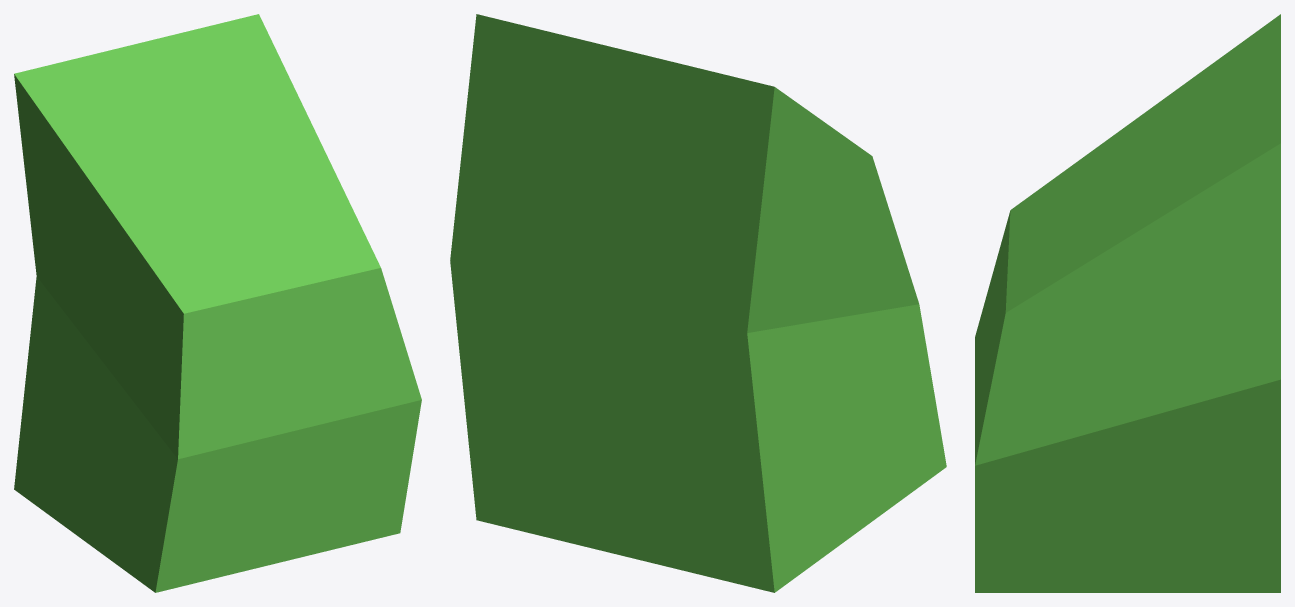
The model's file is grass.glb.
3 views of the same model, side by side, from view 1: azimuth 30°, elevation 25°; view 2: azimuth 150°, elevation 25°; view 3: azimuth 270°, elevation 25° (orthographic). The views are drawn at different scales.
Parts seen in each view (by area): view 1: grass stalk; view 2: grass stalk; view 3: grass stalk.
Part boxes in pixels (bbox=[...]): grass stalk: bbox=[14, 14, 421, 592]; grass stalk: bbox=[450, 14, 946, 592]; grass stalk: bbox=[975, 14, 1280, 592].
Size of the model in its own units: 0.3265 by 0.4867 by 0.3.
